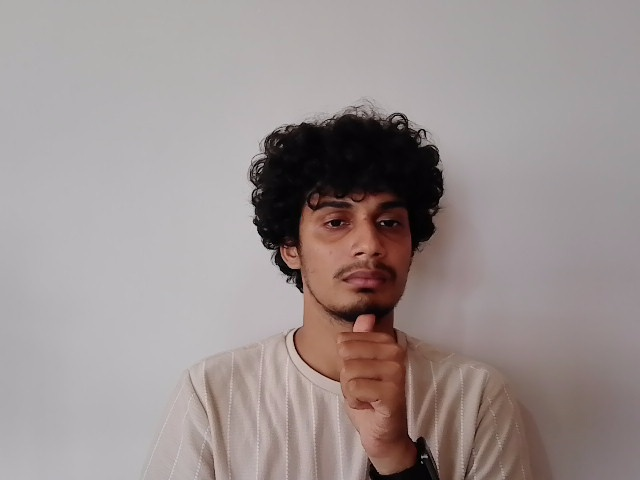not: (312, 294, 422, 421)
